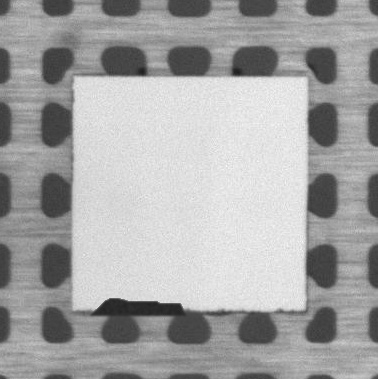DIE_BROKEN: (89, 292, 187, 317)
